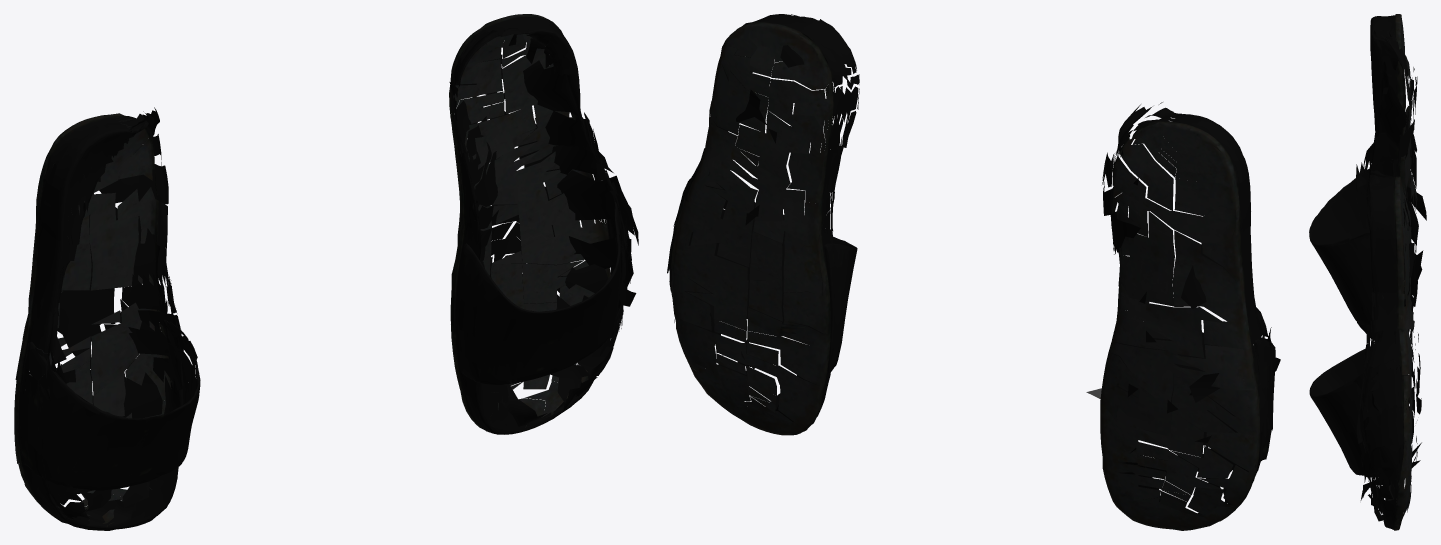
Rendered from adult-base-01.mobile.glb.
3 views of the same model, side by side, from view 1: azimuth 30°, elevation 25°; view 2: azimuth 150°, elevation 25°; view 3: azimuth 270°, elevation 25° (orthographic). The views are drawn at different scales.
Parts seen in each view (by area): view 1: geometry_0; view 2: geometry_0; view 3: geometry_0.
Boxes of the visible parts, bbox=[...] form: geometry_0: bbox=[14, 14, 638, 530]; geometry_0: bbox=[667, 14, 1280, 530]; geometry_0: bbox=[1309, 14, 1426, 530].
Bounding box in the file's own units: 0.00396 × 0.00262 × 0.000822.
1 material, 1 textured.
